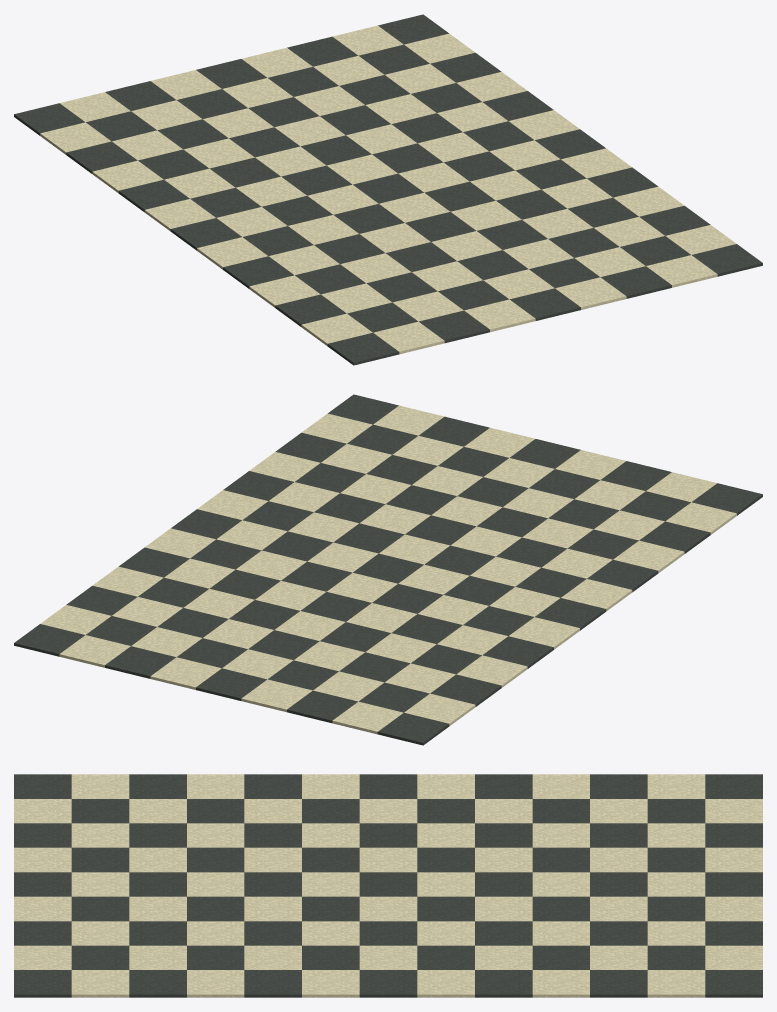
The model's file is alfombra-shaggy-cuadros-verde-160x230.glb.
The picture shows the model from 3 angles, top to bottom: view 1: azimuth 30°, elevation 25°; view 2: azimuth 150°, elevation 25°; view 3: azimuth 270°, elevation 25°; orthographic projection. The views are drawn at different scales.
Visible parts, largest first — view 1: alfombra-shaggy-cuadros-verde; view 2: alfombra-shaggy-cuadros-verde; view 3: alfombra-shaggy-cuadros-verde.
Part boxes in pixels (box(x1,y1,x2,y2)): alfombra-shaggy-cuadros-verde: box(14, 14, 762, 365); alfombra-shaggy-cuadros-verde: box(14, 394, 762, 745); alfombra-shaggy-cuadros-verde: box(14, 774, 762, 997).
Size of the model in its own units: 1.6 by 0.01 by 2.3.
2 materials, 2 textured.
